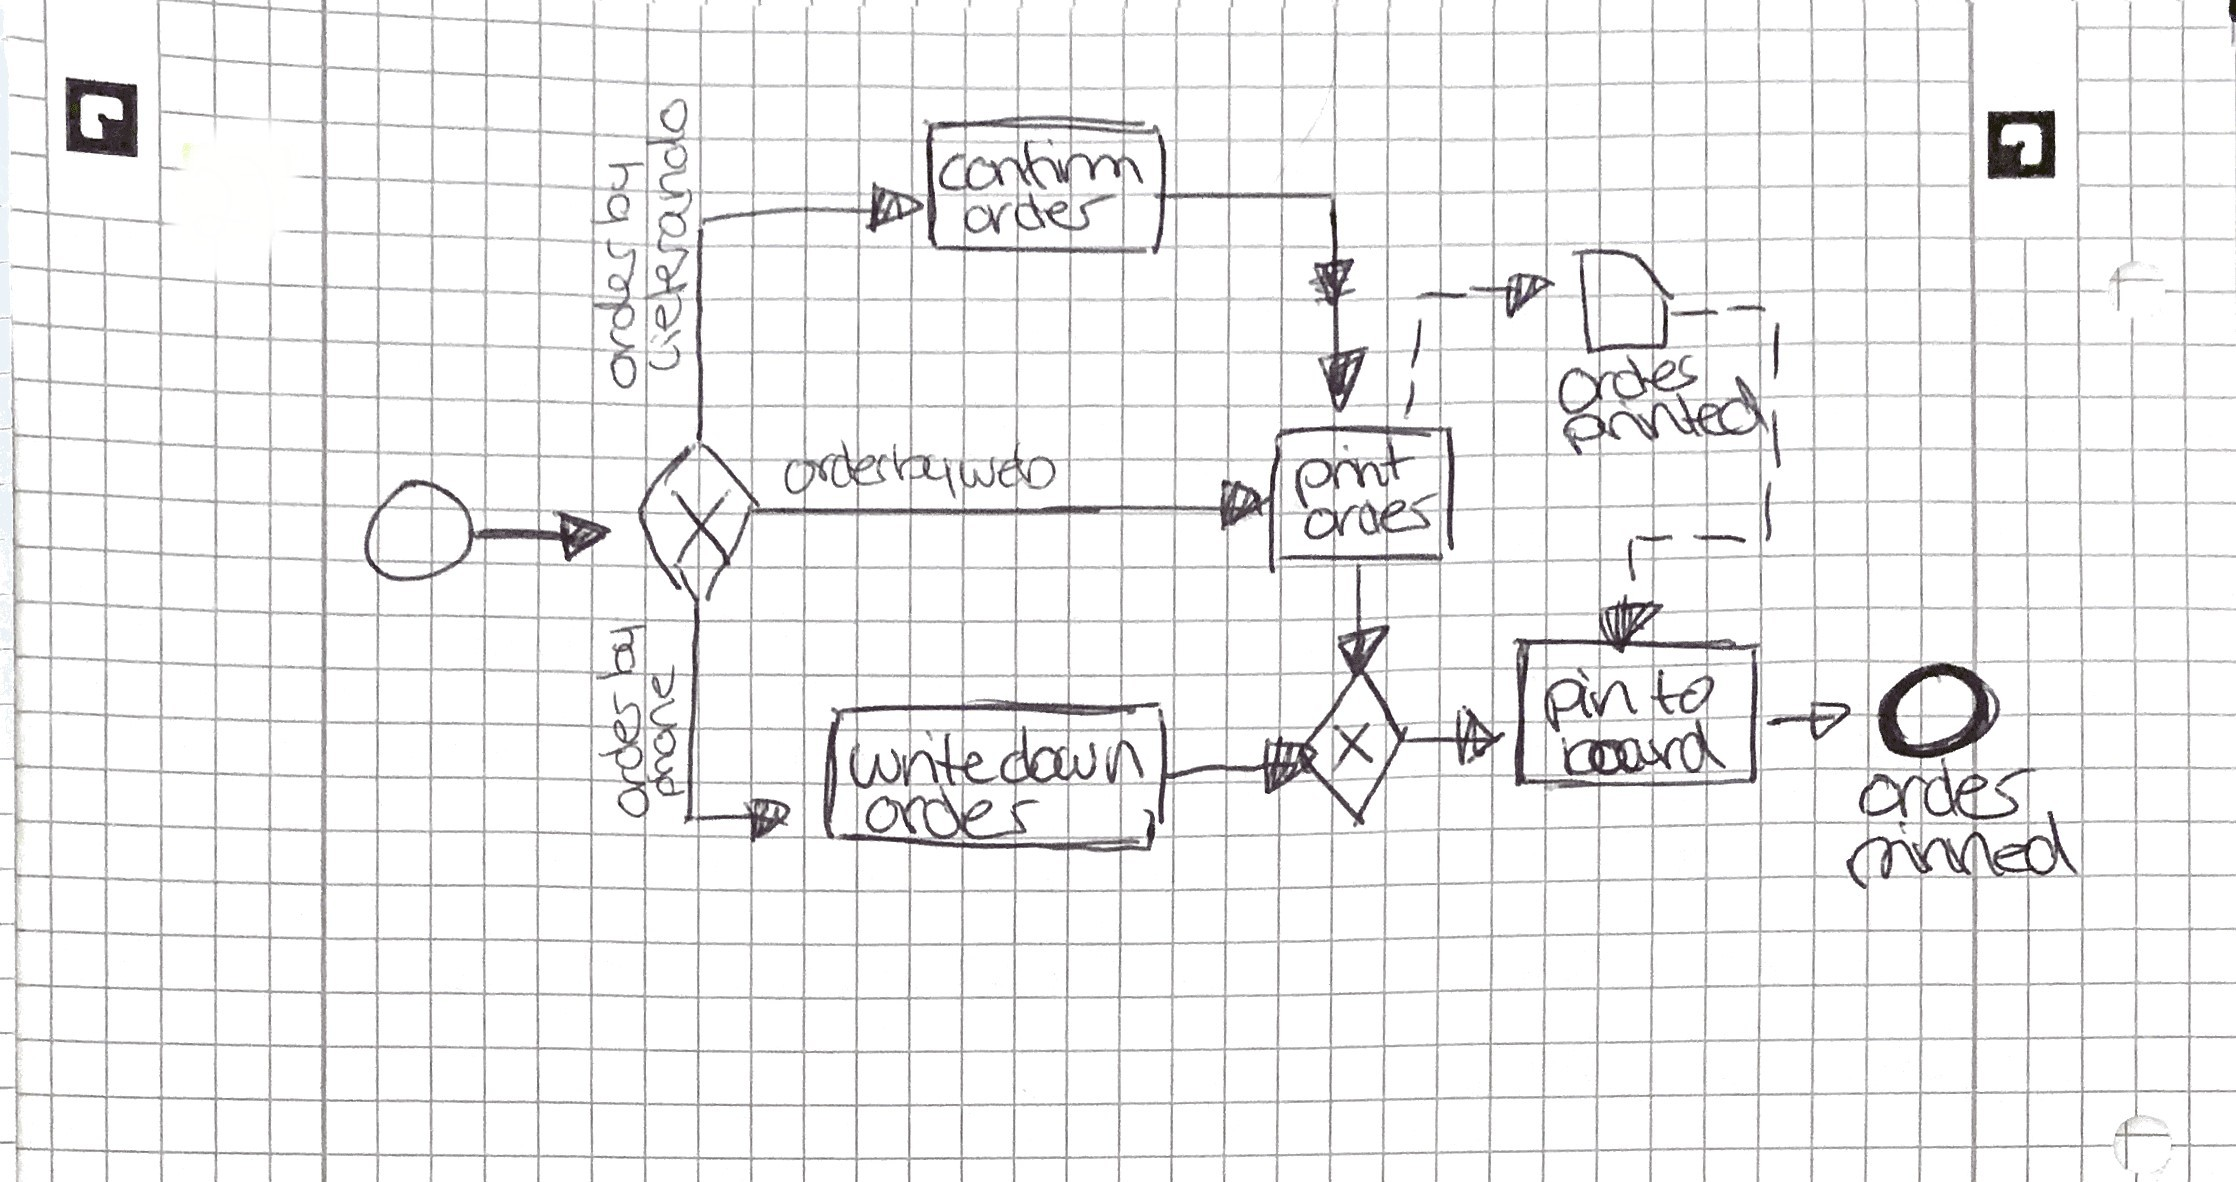Lieferando: (643, 98, 694, 382)
Order: (1557, 352, 1704, 416)
board: (1556, 717, 1729, 778)
by: (589, 155, 648, 229), (892, 442, 963, 500), (590, 623, 648, 681)
confirm: (938, 136, 1148, 194)
down: (1000, 723, 1148, 787)
order: (1856, 759, 2041, 820), (864, 783, 1043, 840), (963, 189, 1122, 237), (594, 689, 652, 820), (592, 232, 637, 391), (1301, 493, 1442, 541), (781, 442, 895, 497)
phone: (642, 661, 685, 800)
pin: (1542, 663, 1642, 729)
pinned: (1846, 815, 2081, 891)
print: (1291, 436, 1417, 507)
printed: (1560, 394, 1769, 459)
to: (1649, 669, 1715, 719)
web: (957, 436, 1060, 490)
write: (844, 728, 1001, 788)
